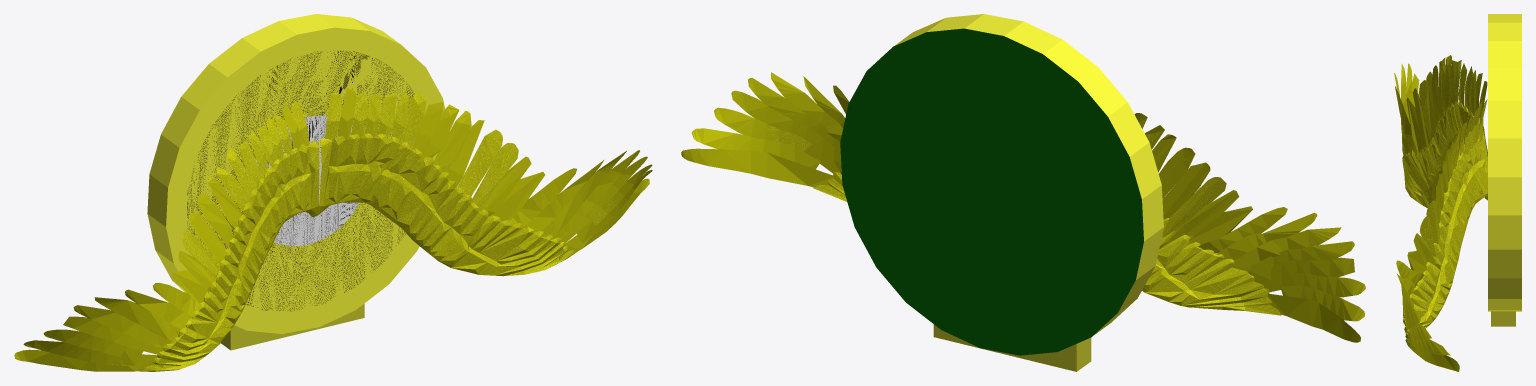
3 renders of one model, left to right at view 1: azimuth 30°, elevation 25°; view 2: azimuth 150°, elevation 25°; view 3: azimuth 270°, elevation 25°, orthographic. The views are drawn at different scales.
Visible parts, largest first — view 1: trophy wings; view 2: trophy wings; view 3: trophy wings.
Part boxes in pixels (bbox=[...]): trophy wings: bbox=[14, 14, 652, 371]; trophy wings: bbox=[681, 14, 1365, 371]; trophy wings: bbox=[1394, 14, 1521, 371].
Size of the model in its own units: 8 by 3.62 by 1.53.
